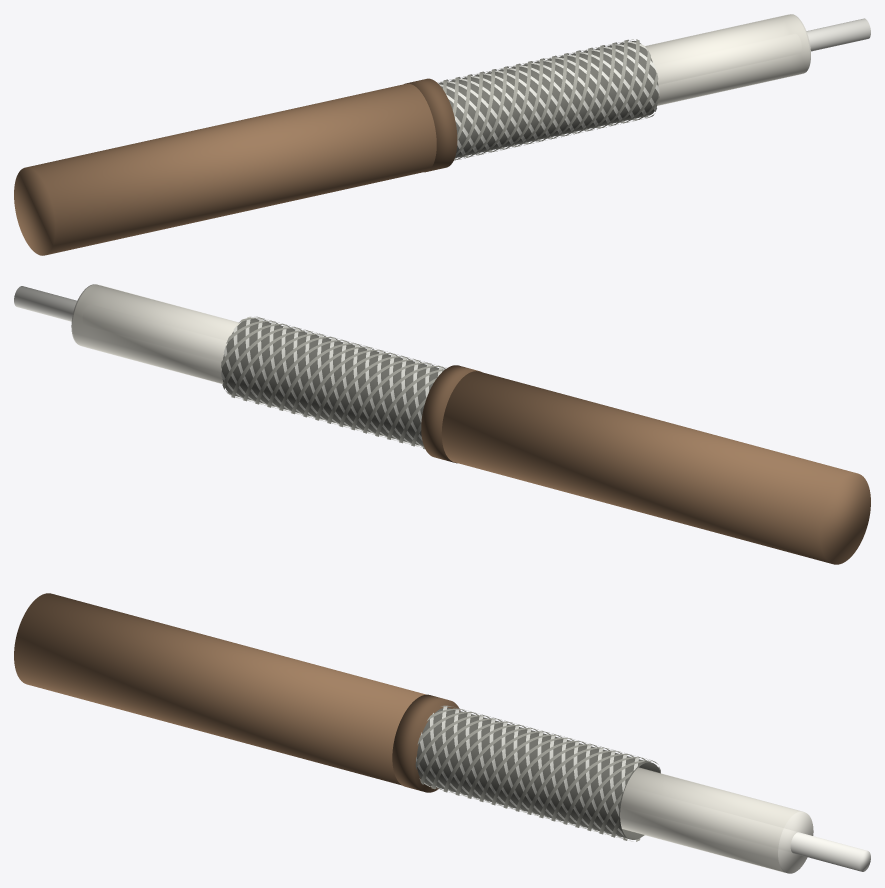
The picture shows the model from 3 angles, top to bottom: view 1: azimuth 30°, elevation 25°; view 2: azimuth 150°, elevation 25°; view 3: azimuth 330°, elevation 25°; orthographic projection. The views are drawn at different scales.
Parts seen in each view (by area): view 1: matte black pvc jacket body, smooth dielectric skin, gas injected foam dielectric, braid dark diamond recess, jacket cut lip, solid center conductor continuous, braid left hand woven carrier 01, braid left hand woven carrier 10, braid left hand woven carrier 02, braid left hand woven carrier 09, braid left hand woven carrier 03, braid left hand woven carrier 08 (+8 smaller); view 2: matte black pvc jacket body, smooth dielectric skin, gas injected foam dielectric, braid dark diamond recess, jacket cut lip, solid center conductor continuous, braid left hand woven carrier 08, braid left hand woven carrier 07, braid left hand woven carrier 09, braid left hand woven carrier 06, braid left hand woven carrier 05, braid left hand woven carrier 10 (+6 smaller); view 3: matte black pvc jacket body, gas injected foam dielectric, smooth dielectric skin, braid dark diamond recess, jacket cut lip, solid center conductor continuous, braid left hand woven carrier 09, braid left hand woven carrier 10, braid left hand woven carrier 01, braid left hand woven carrier 02, braid left hand woven carrier 08, braid left hand woven carrier 03 (+6 smaller).
Part boxes in pixels (bbox=[...]): matte black pvc jacket body: bbox=[14, 83, 436, 255]; smooth dielectric skin: bbox=[645, 14, 809, 105]; gas injected foam dielectric: bbox=[645, 14, 810, 105]; braid dark diamond recess: bbox=[438, 41, 658, 158]; jacket cut lip: bbox=[404, 78, 457, 172]; solid center conductor continuous: bbox=[806, 18, 870, 51]; braid left hand woven carrier 01: bbox=[454, 39, 628, 159]; braid left hand woven carrier 10: bbox=[454, 42, 617, 160]; braid left hand woven carrier 02: bbox=[463, 39, 639, 157]; braid left hand woven carrier 09: bbox=[455, 45, 605, 156]; braid left hand woven carrier 03: bbox=[475, 50, 650, 154]; braid left hand woven carrier 08: bbox=[457, 47, 593, 141]; matte black pvc jacket body: bbox=[441, 371, 870, 564]; smooth dielectric skin: bbox=[73, 284, 239, 383]; gas injected foam dielectric: bbox=[71, 284, 239, 383]; braid dark diamond recess: bbox=[222, 318, 443, 446]; jacket cut lip: bbox=[421, 365, 480, 463]; solid center conductor continuous: bbox=[14, 286, 76, 321]; braid left hand woven carrier 08: bbox=[231, 330, 445, 430]; braid left hand woven carrier 07: bbox=[243, 333, 446, 433]; braid left hand woven carrier 09: bbox=[222, 327, 436, 427]; braid left hand woven carrier 06: bbox=[255, 337, 444, 436]; braid left hand woven carrier 05: bbox=[267, 340, 436, 439]; braid left hand woven carrier 10: bbox=[221, 324, 423, 423]; matte black pvc jacket body: bbox=[14, 593, 425, 785]; gas injected foam dielectric: bbox=[620, 767, 813, 873]; smooth dielectric skin: bbox=[620, 767, 802, 872]; braid dark diamond recess: bbox=[417, 707, 660, 839]; jacket cut lip: bbox=[392, 694, 460, 792]; solid center conductor continuous: bbox=[790, 832, 870, 871]; braid left hand woven carrier 09: bbox=[420, 718, 633, 818]; braid left hand woven carrier 10: bbox=[431, 721, 647, 821]; braid left hand woven carrier 01: bbox=[443, 725, 658, 824]; braid left hand woven carrier 02: bbox=[455, 728, 646, 827]; braid left hand woven carrier 08: bbox=[415, 715, 622, 814]; braid left hand woven carrier 03: bbox=[467, 731, 632, 831].
Bounding box in the file's own units: 6.51 × 0.6312 × 0.7988.
